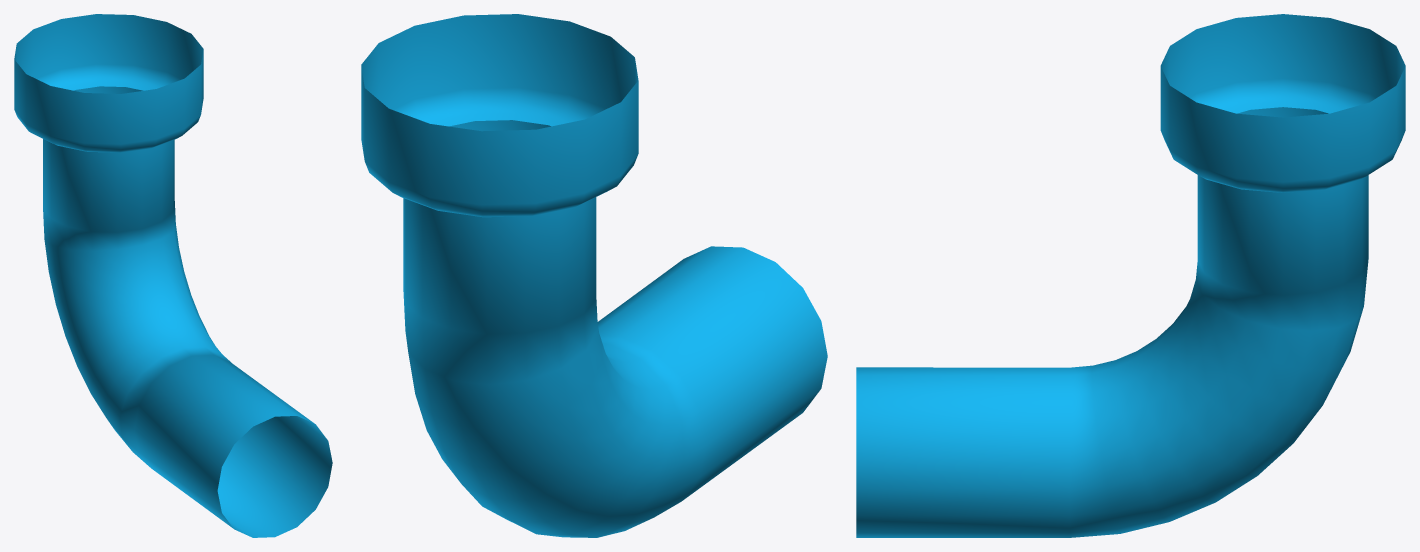
File: pipe_angle_cap.gltf
3 renders of one model, left to right at view 1: azimuth 30°, elevation 25°; view 2: azimuth 150°, elevation 25°; view 3: azimuth 270°, elevation 25°, orthographic. The views are drawn at different scales.
Parts seen in each view (by area): view 1: pipe_angle_cap; view 2: pipe_angle_cap; view 3: pipe_angle_cap.
Part boxes in pixels (bbox=[...]): pipe_angle_cap: bbox=[14, 14, 332, 537]; pipe_angle_cap: bbox=[361, 14, 827, 537]; pipe_angle_cap: bbox=[856, 14, 1405, 537].
Bounding box in the file's own units: 0.5742 × 1.2 × 1.29.
